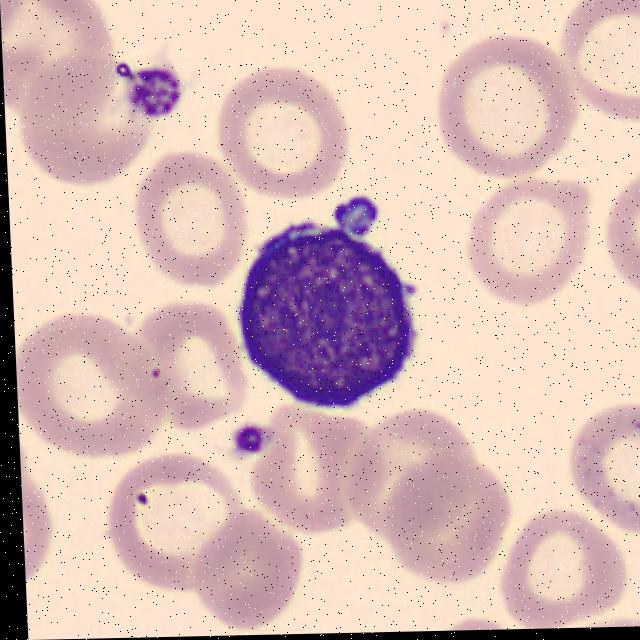lymphocyte: (214, 209, 429, 414)
platelets: (121, 59, 191, 126), (233, 419, 266, 461)
rbc: (14, 306, 173, 462), (433, 25, 578, 183), (337, 402, 475, 548), (109, 458, 249, 597), (244, 403, 388, 538), (212, 64, 348, 198), (382, 462, 523, 589), (179, 513, 319, 630), (463, 183, 592, 307), (130, 303, 241, 441), (132, 158, 245, 293), (16, 66, 139, 187), (500, 515, 619, 629), (0, 0, 114, 109), (555, 0, 640, 137), (562, 402, 640, 530), (19, 431, 66, 595), (603, 177, 640, 295), (445, 611, 524, 631), (572, 610, 640, 628)
